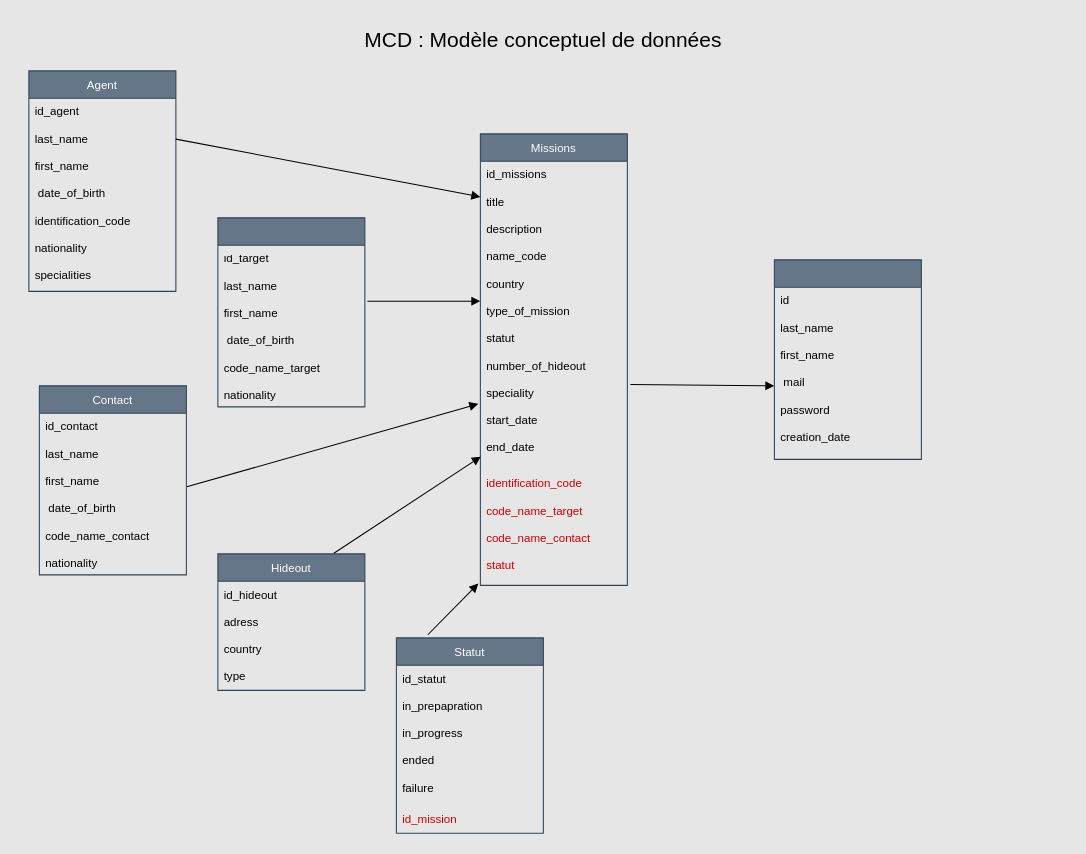
The diagram is 1086 pixels wide and 854 high, and some of its shapes have lost their labels. The box of each missing label's shape, as (x1, y1, x2, y2) in pixels:
Administrator: (773, 259, 921, 459)
Targets: (217, 217, 365, 407)
